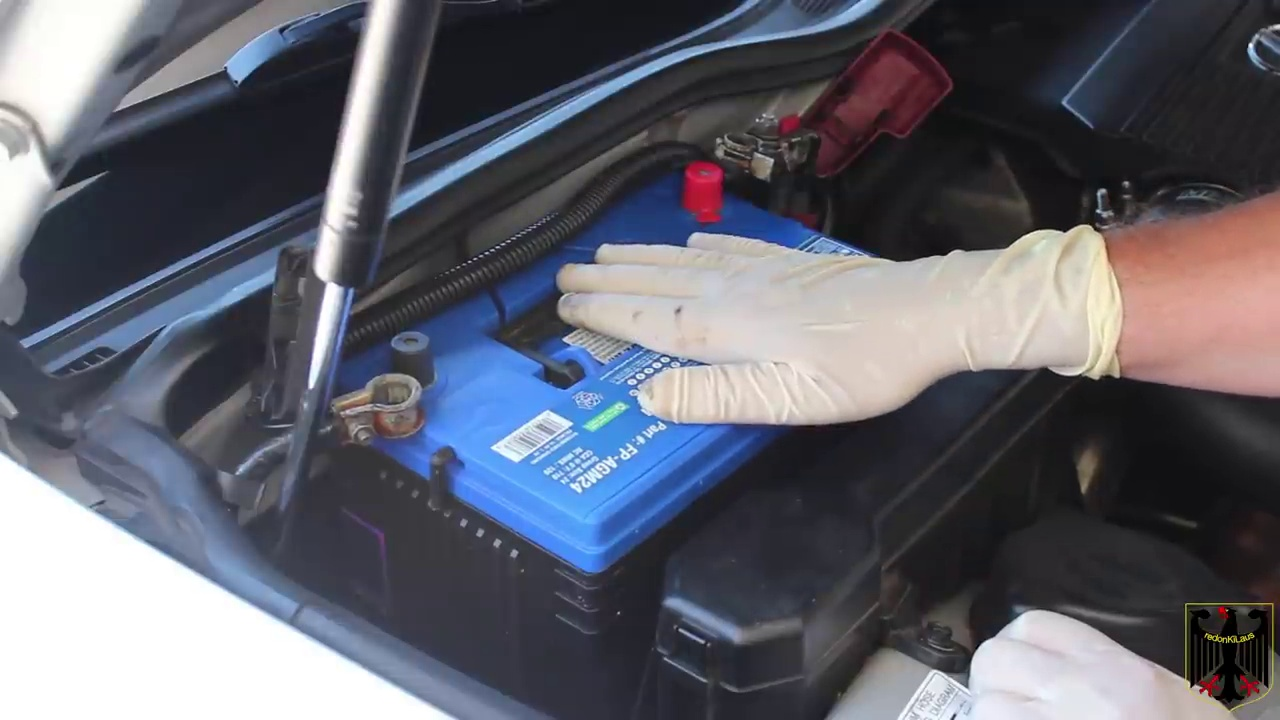battery: (320, 154, 888, 556)
pos_disconnected: (646, 85, 926, 247)
